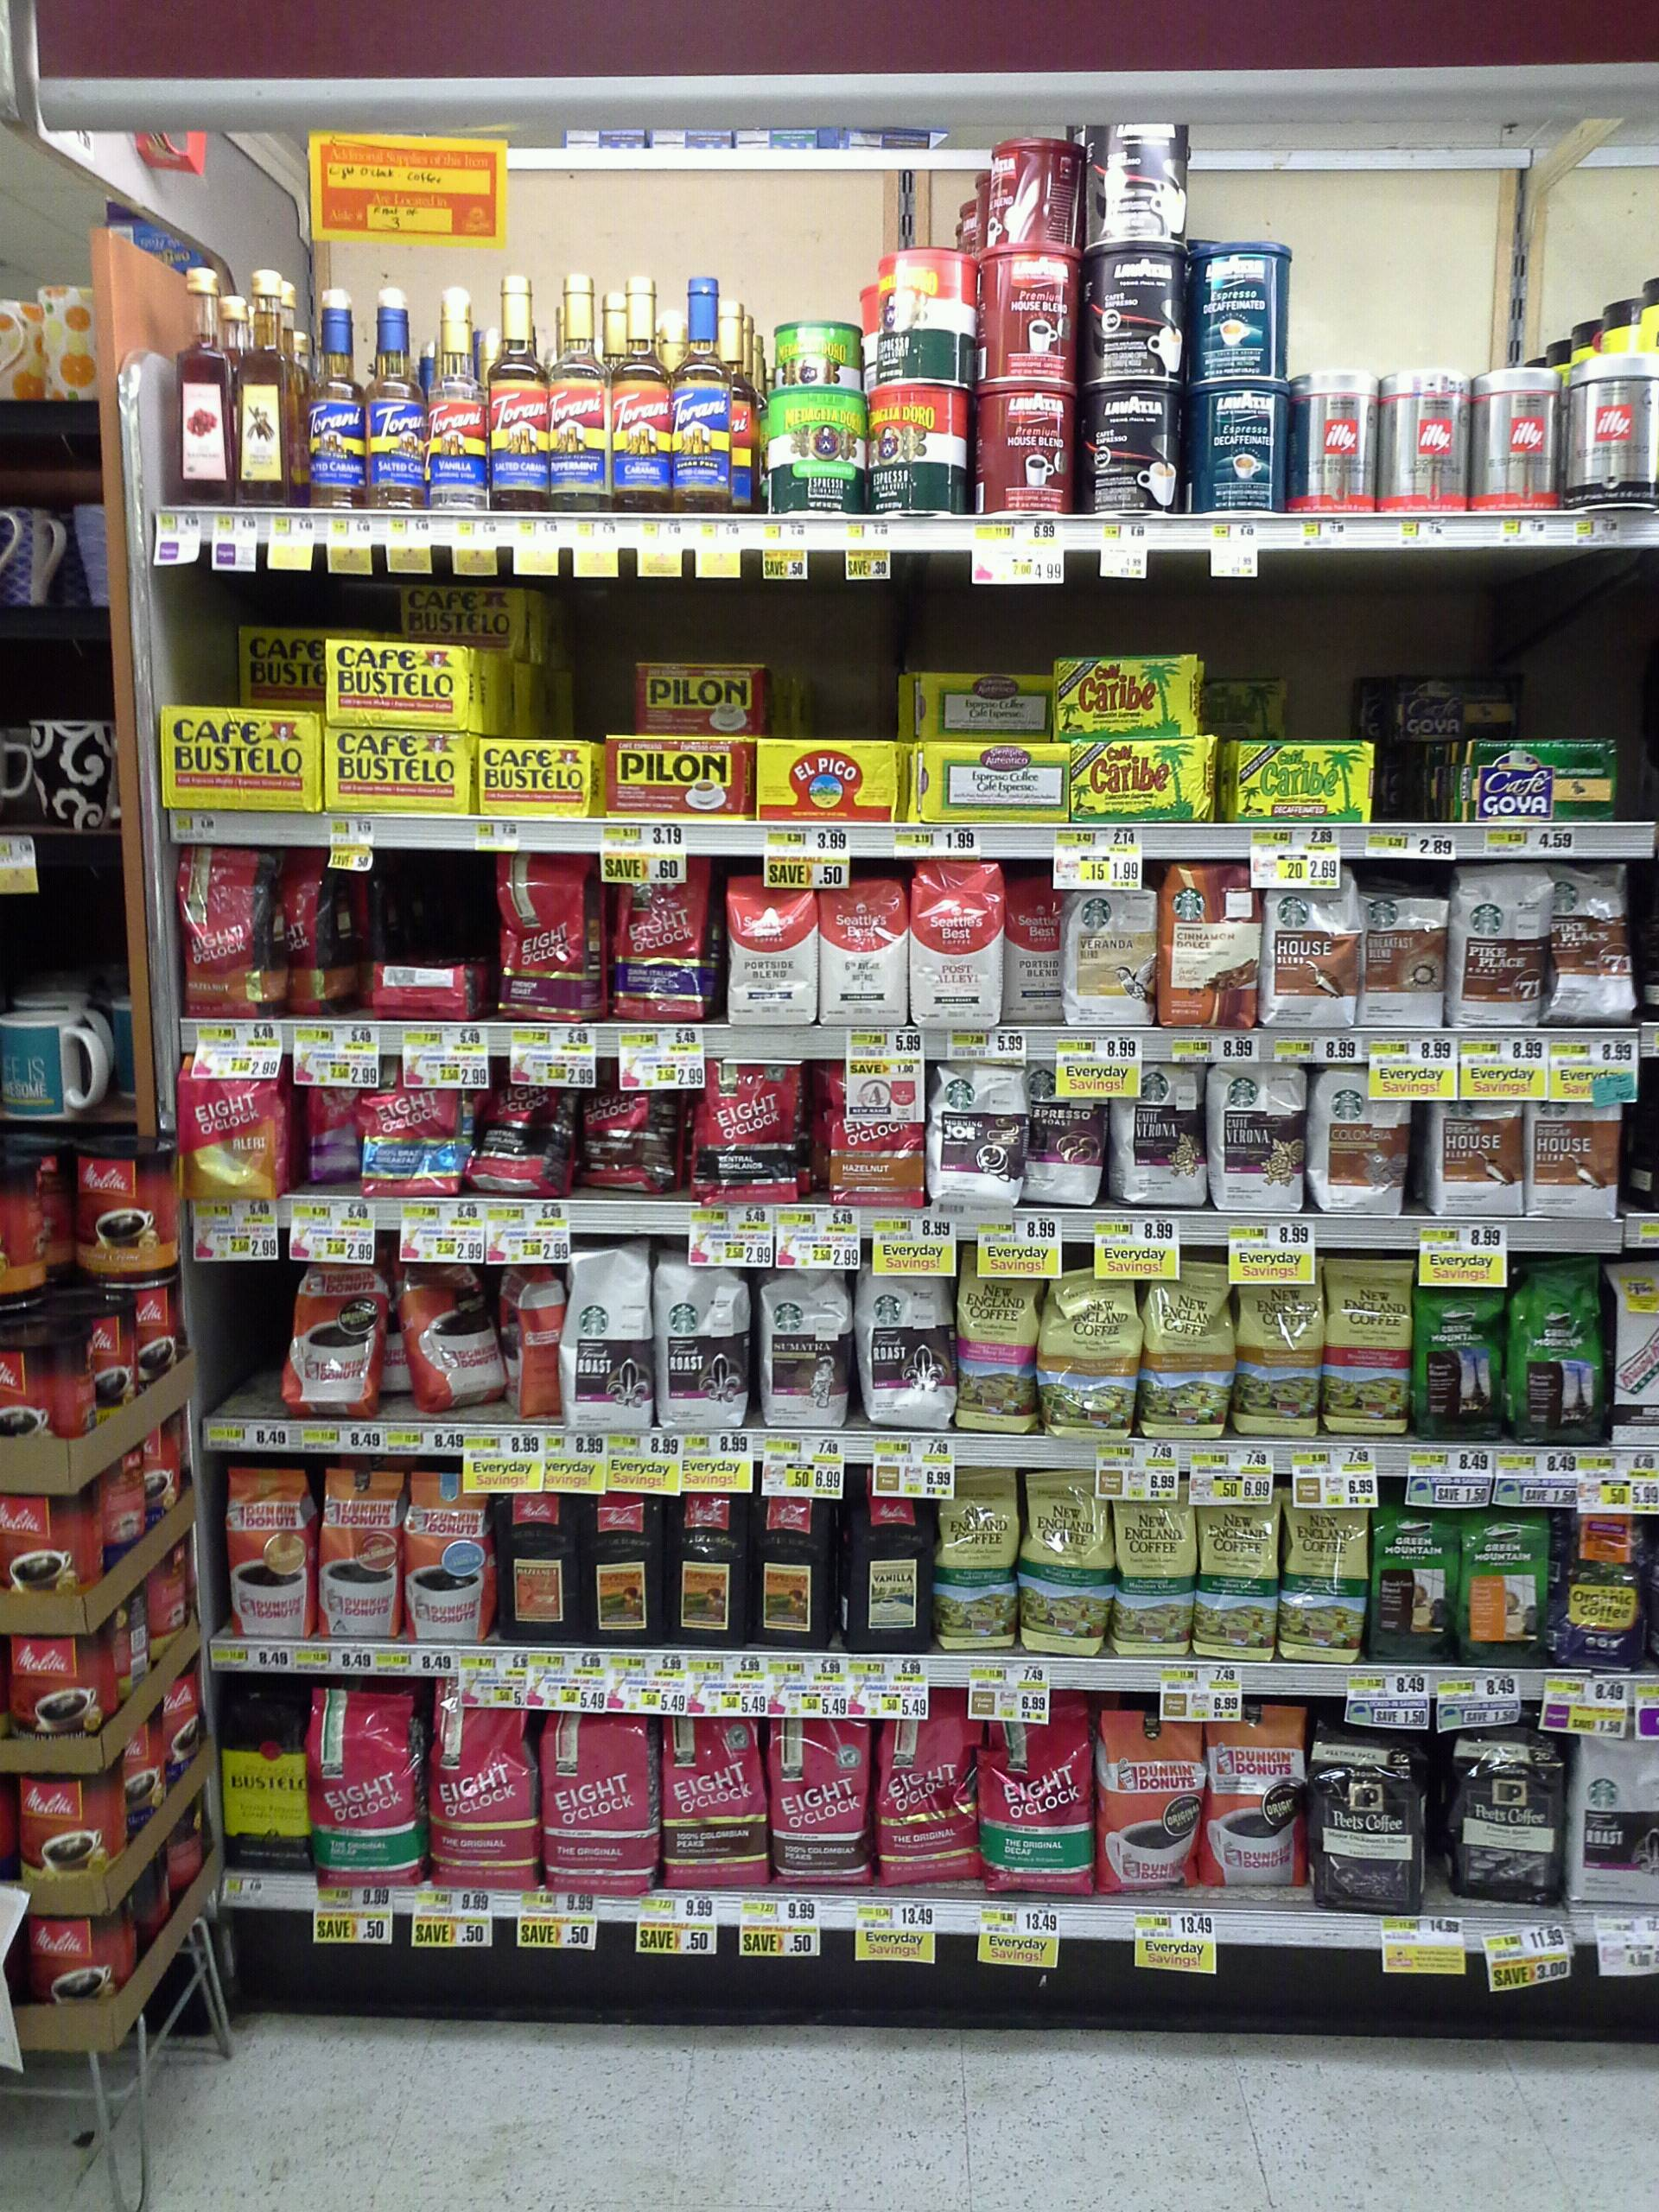Misplacement: (366, 857, 493, 1017)
